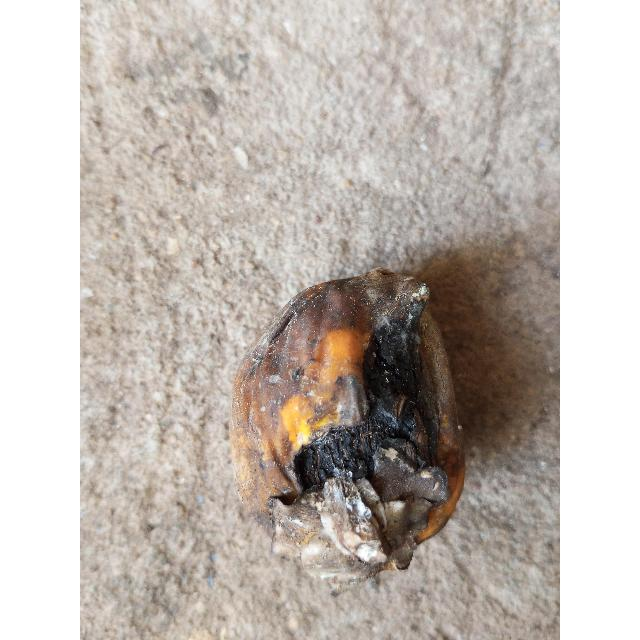damaged: (230, 268, 465, 583)
